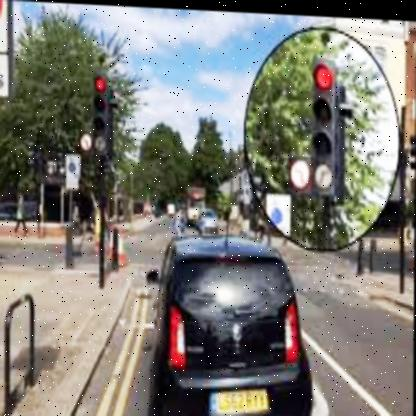No left turn: (289, 152, 311, 189), (81, 131, 93, 152)
